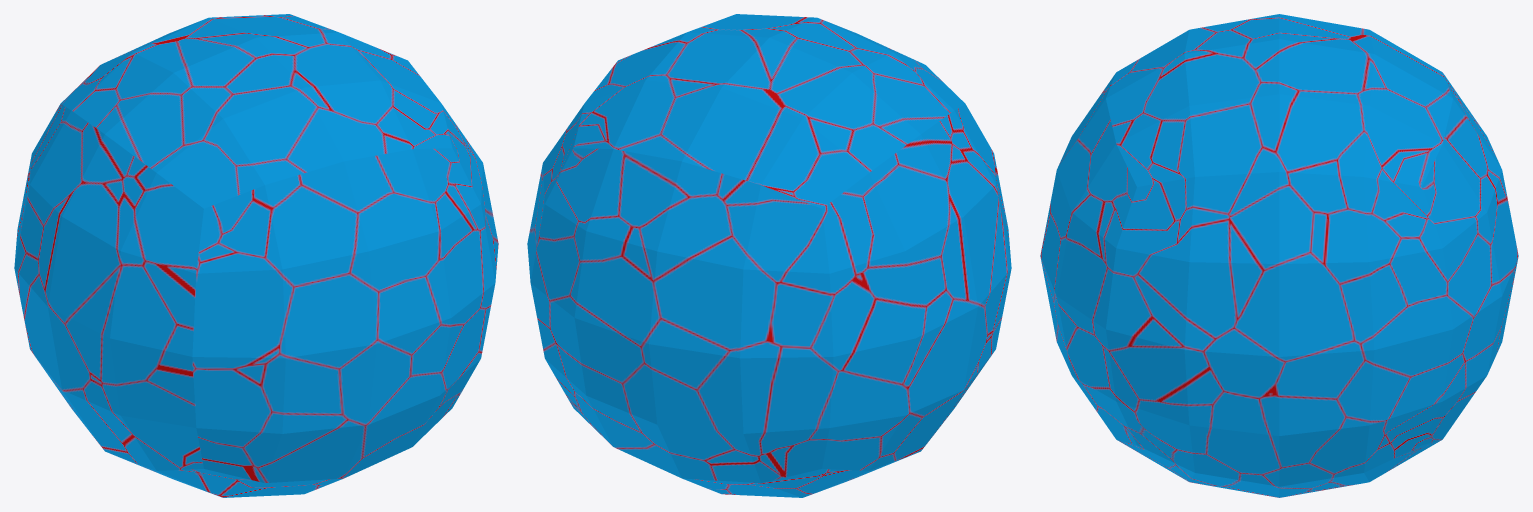
File: Target.glb
3 views of the same model, side by side, from view 1: azimuth 30°, elevation 25°; view 2: azimuth 150°, elevation 25°; view 3: azimuth 270°, elevation 25° (orthographic).
Visible parts, largest first — view 1: Target; view 2: Target; view 3: Target.
Boxes of the visible parts, x1,y1,x2,y2 form: Target: (14,14,498,497); Target: (527,14,1011,497); Target: (1040,14,1518,497).
Bounding box in the file's own units: 1.68 × 1.68 × 1.68.
1 material, 1 textured.
